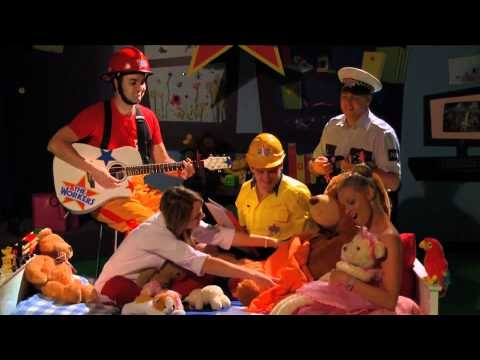none: (338, 170, 377, 227), (159, 186, 206, 232), (337, 74, 373, 118)
red: (104, 45, 150, 103)
yellow: (244, 133, 288, 189)
